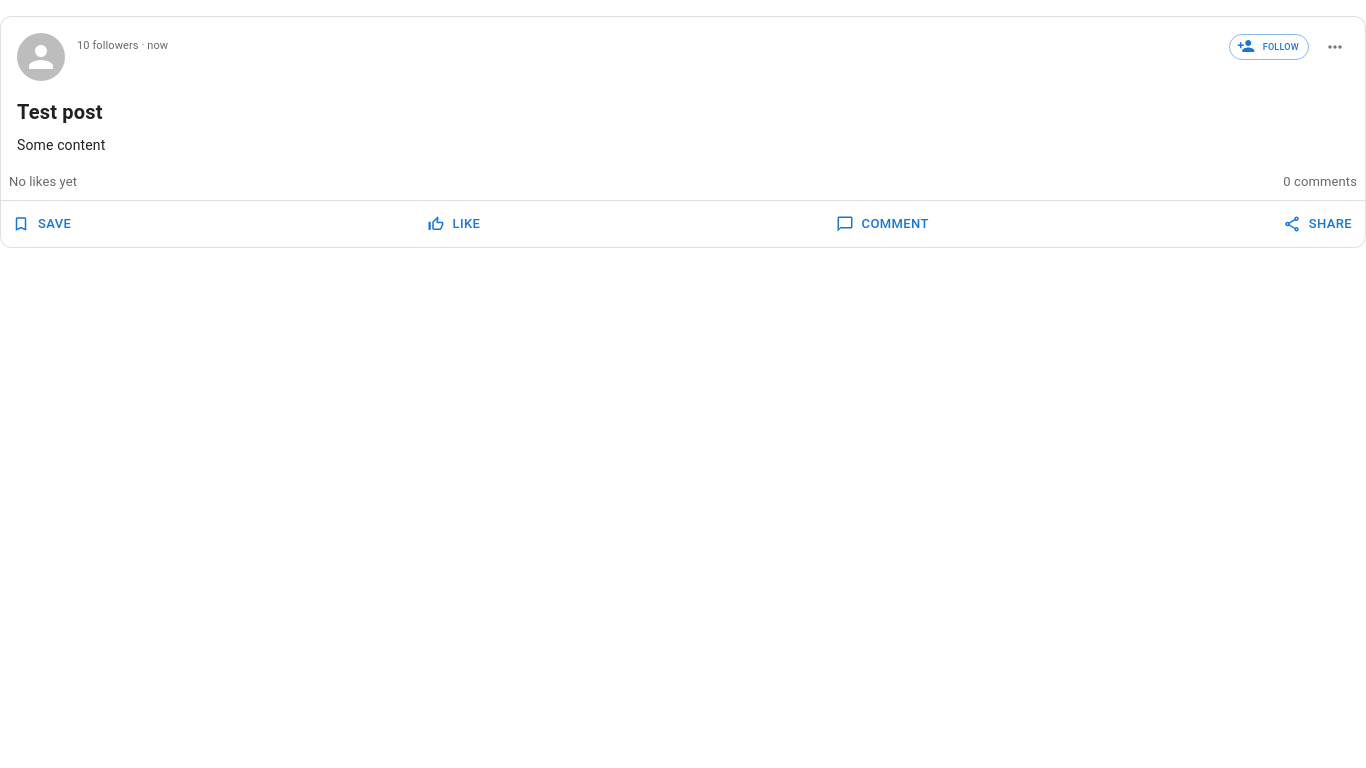
Test: Report-a-post: dialog flow › opens the report dialog with a reason radio group
The width and height of the screenshot is (1366, 768).
Step 1. Click the button named "post options" → coordinates (1335, 47), box [1313,25,1357,69]
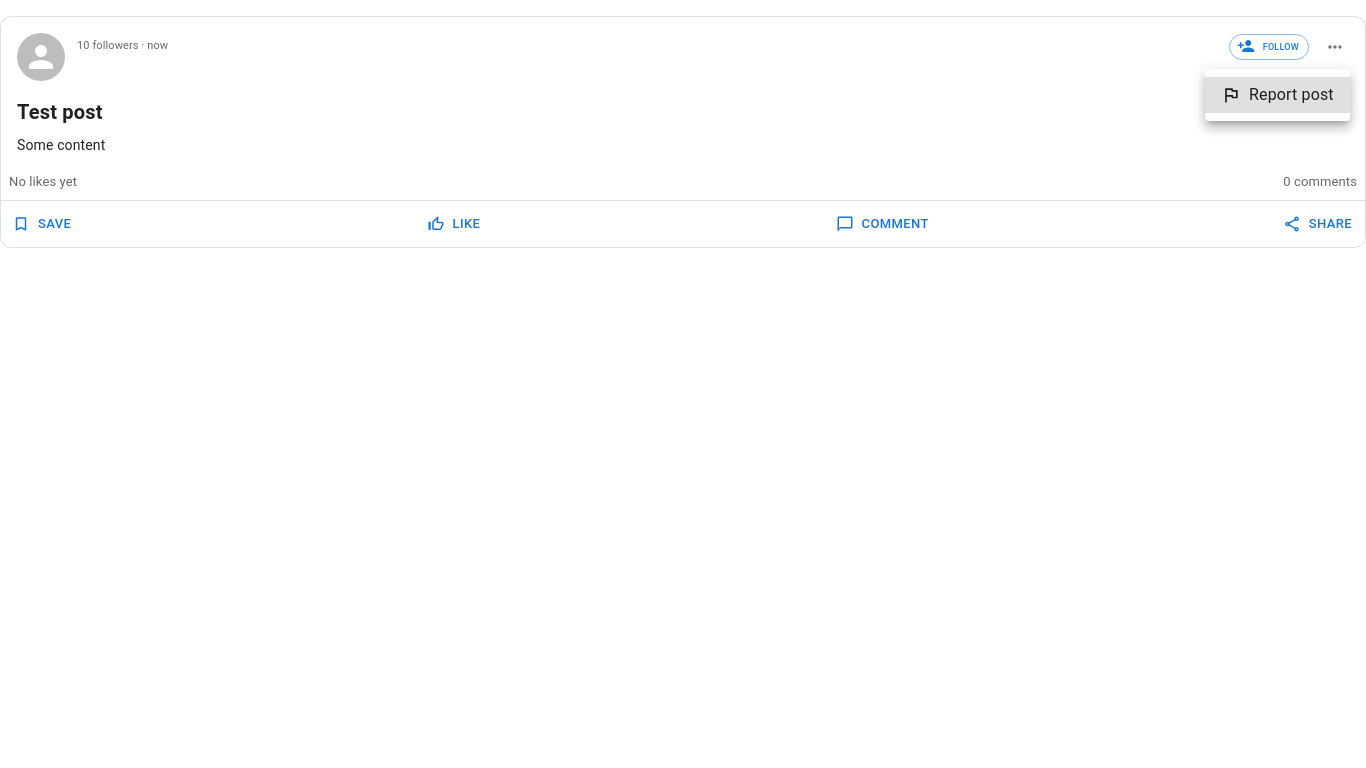
Step 2. Click the menu item "Report post" → coordinates (1277, 95), box [1205,77,1350,113]
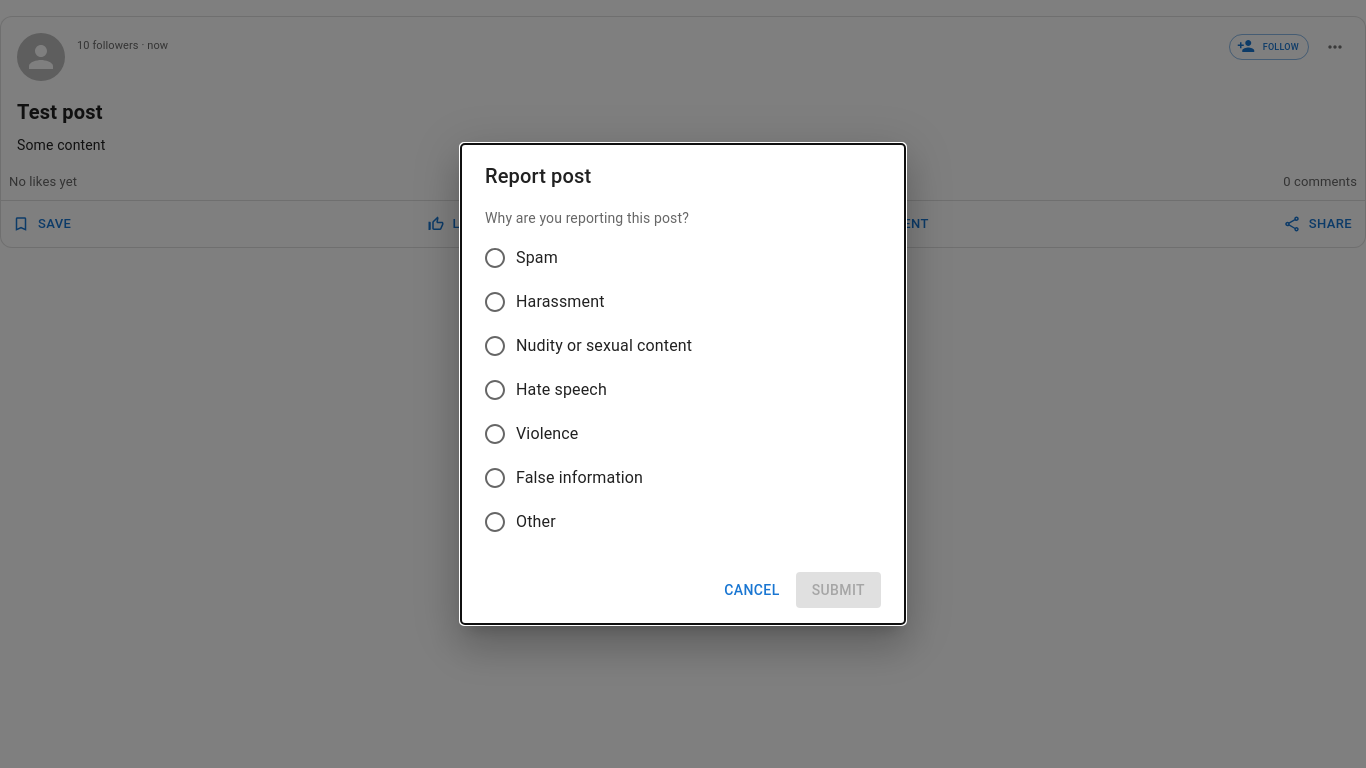
Expected: the dialog is shown, [461,144,905,624]
Expected: the radio button labelled "Spam" is shown, [483,246,558,270]
